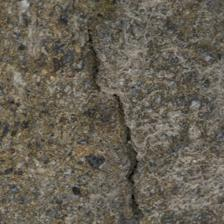Crack: (0, 0, 62, 93), (30, 19, 80, 128)
